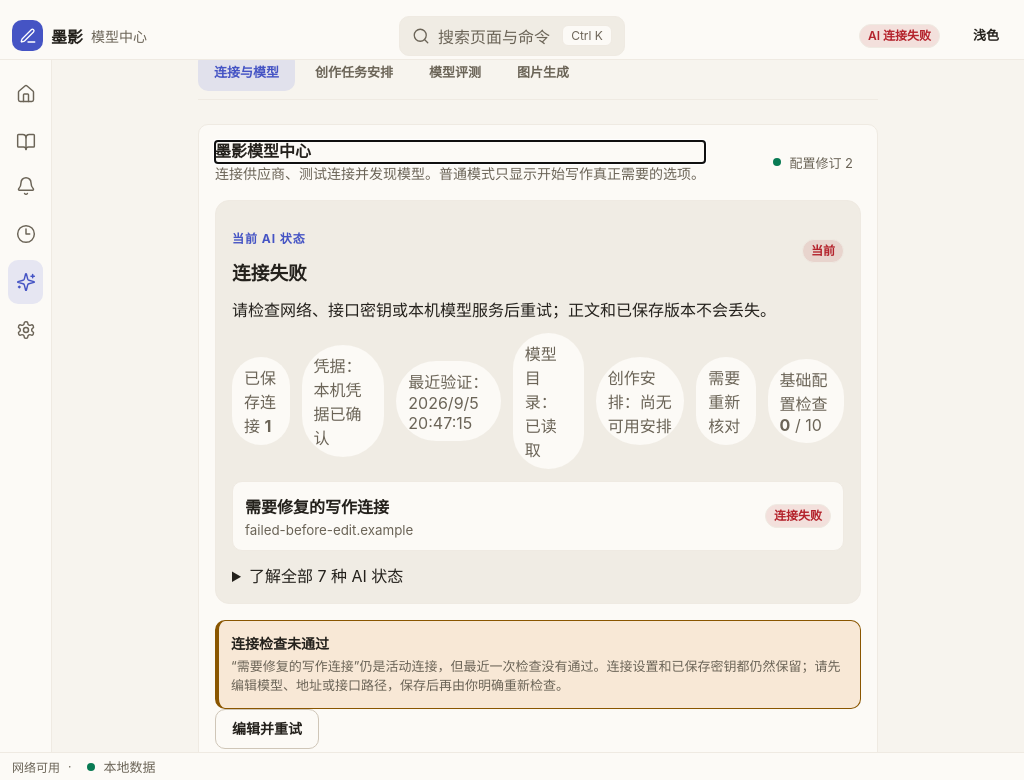
Test: 设置页失败连接生产恢复入口 › 编辑后再次失败时保留活动连接、原系统凭据和再次编辑入口
The width and height of the screenshot is (1024, 780).
(page scrolled)
Click the button "编辑并重试" at point(267, 729), box [215,709,319,749]
(page scrolled)
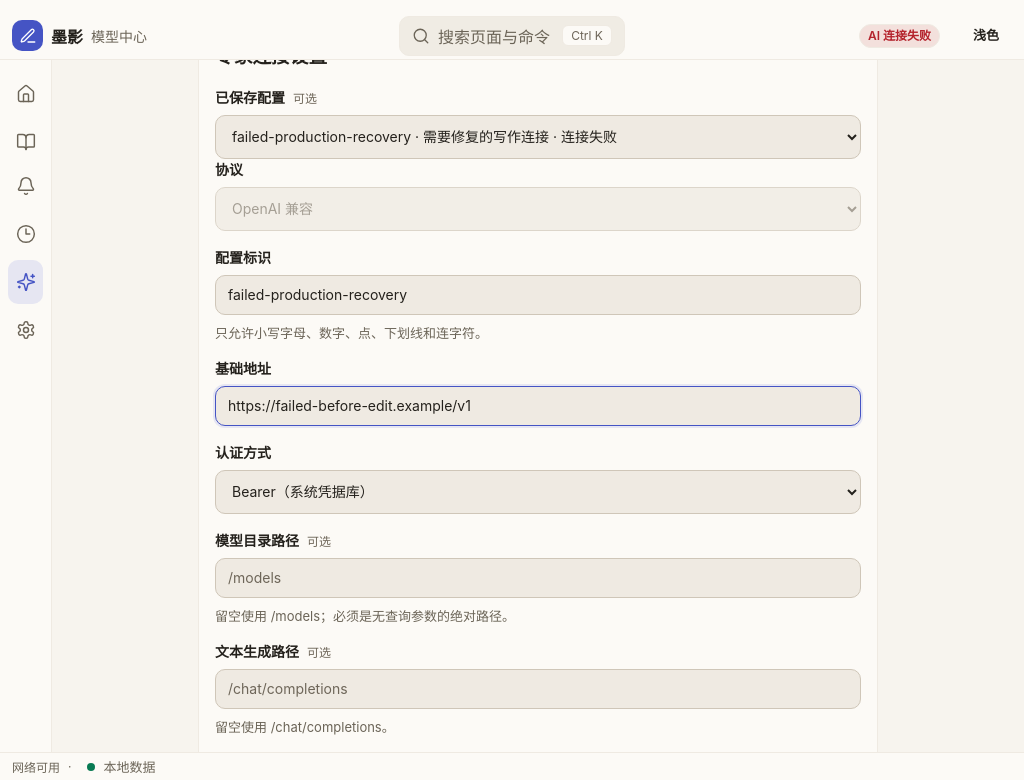
Replace the text in the field labelled "基础地址" with "https://still-failing.example/v1" at point(538, 406), box [228,387,848,425]
(page scrolled)
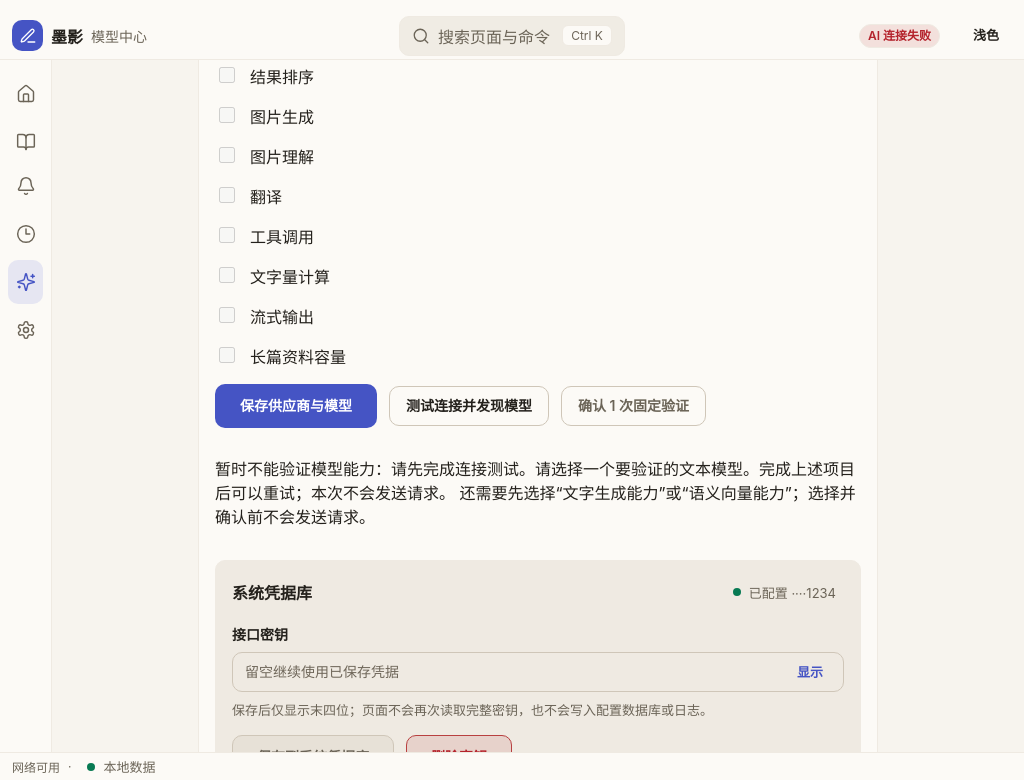
Check: the button "测试连接并发现模型" is enabled
Click the button "测试连接并发现模型" at point(469, 406), box [389,386,549,426]
(page scrolled)
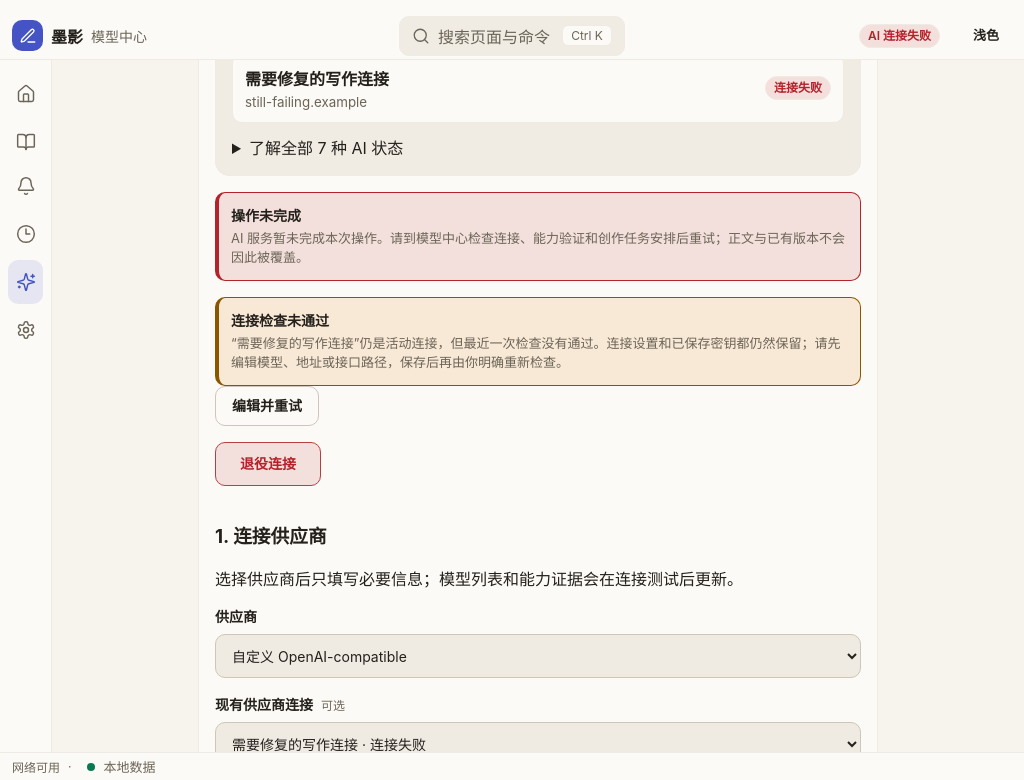
Check: the text "AI 服务暂未完成本次操作。请到模型中心检查连接、能力验证和创作任务安排后重试；正文与已有版本不会因此被覆盖。" is shown, box [231,229,848,268]
Check: the button "编辑并重试" is enabled, box [215,386,319,426]
